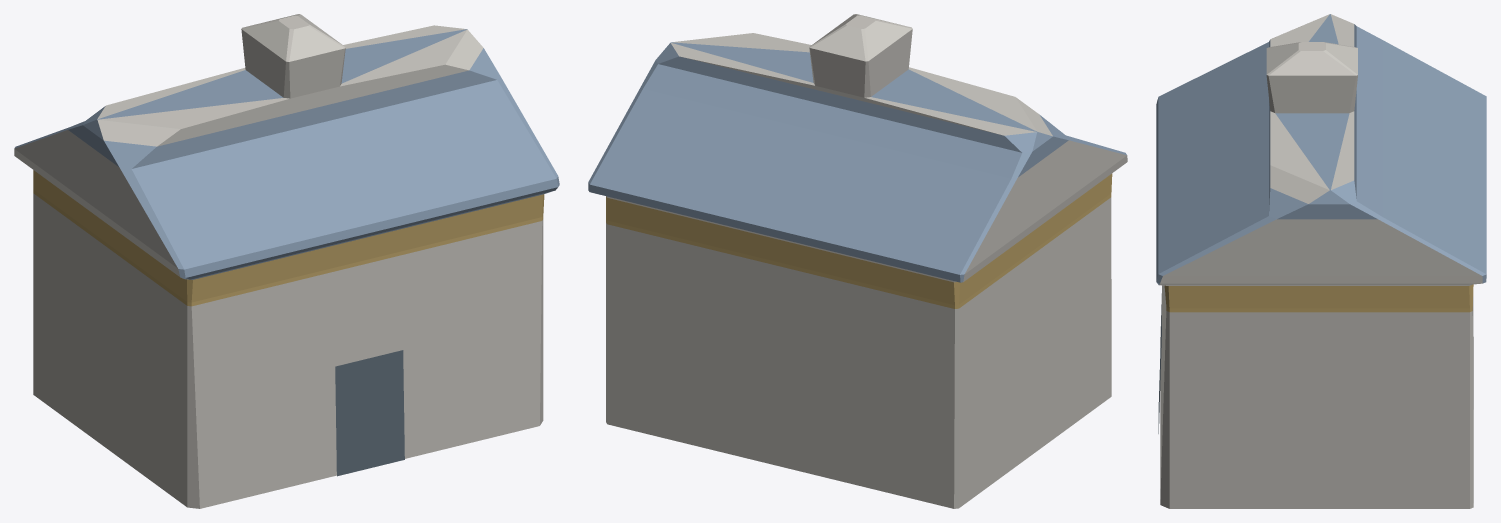
Rendered from loin.glb.
3 views of the same model, side by side, from view 1: azimuth 30°, elevation 25°; view 2: azimuth 150°, elevation 25°; view 3: azimuth 270°, elevation 25° (orthographic). The views are drawn at different scales.
Parts seen in each view (by area): view 1: loin; view 2: loin; view 3: loin.
Part boxes in pixels (x1,y1,x2,y2): loin: [14, 14, 559, 508]; loin: [588, 14, 1127, 508]; loin: [1156, 14, 1486, 508].
Size of the model in its own units: 0.8623 by 0.8401 by 0.6643.
